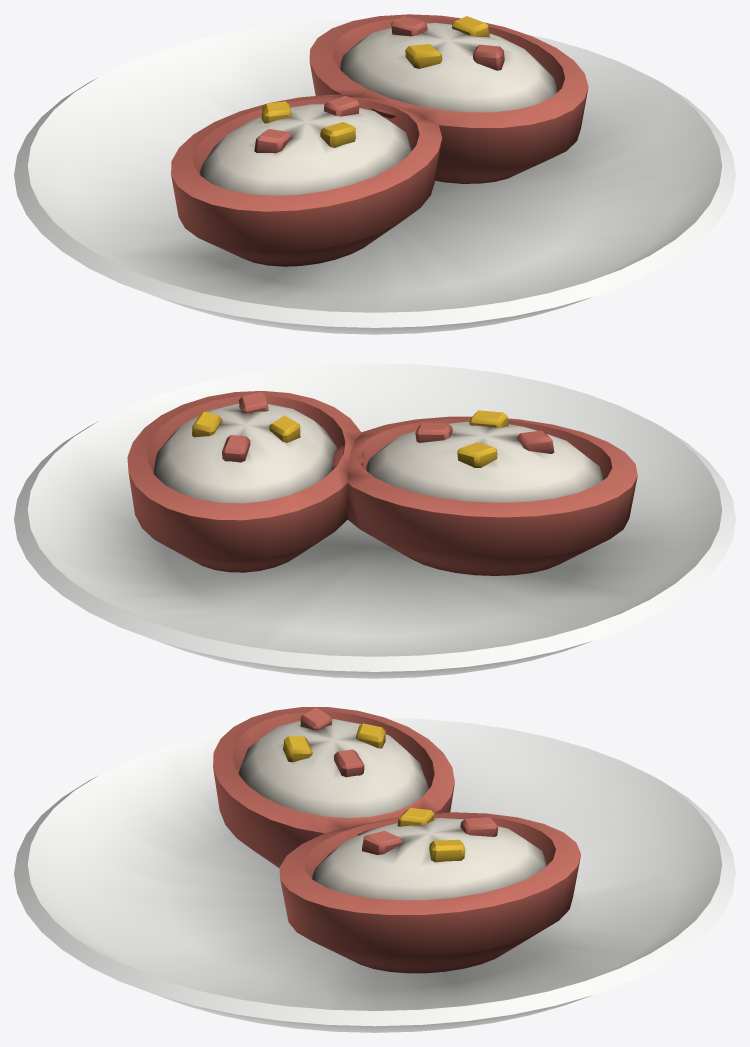
File: meal_stuffed.glb
3 views of the same model, one above another, from view 1: azimuth 30°, elevation 25°; view 2: azimuth 150°, elevation 25°; view 3: azimuth 270°, elevation 25° (orthographic).
Parts seen in each view (by area): view 1: PART; view 2: PART; view 3: PART.
Part boxes in pixels (<box>): PART: <box>14,14,735,334</box>; PART: <box>14,363,735,678</box>; PART: <box>14,707,735,1032</box>.
Size of the model in its own units: 0.21 by 0.0489 by 0.21.
